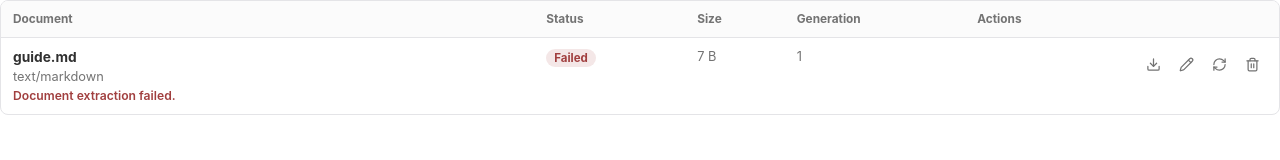
Test case: KnowledgeDocumentTable › shows failed indexing and offers explicit reindex
Check: the text "Document extraction failed." is shown, box [13,88,176,103]
Click the button named "reindex guide.md".
click(1219, 64)  # box [1204,49,1234,79]
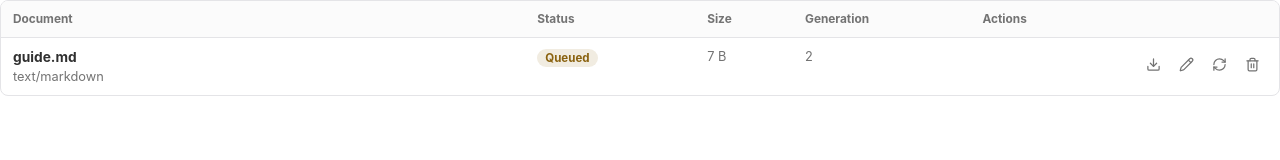
Check: the text "Queued" is shown, box [537,49,598,67]
